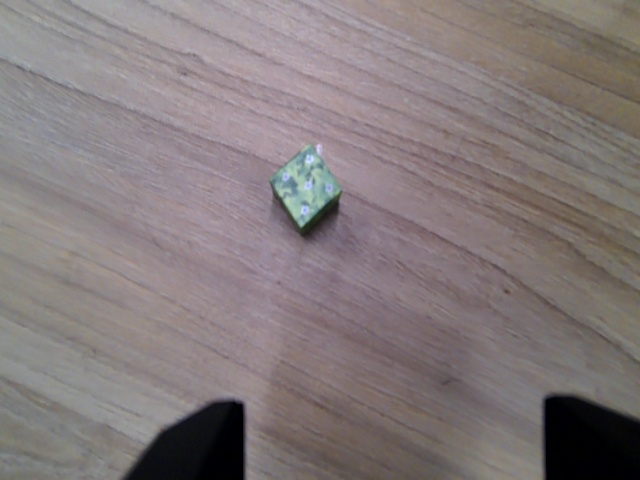grass: (267, 141, 343, 238)
